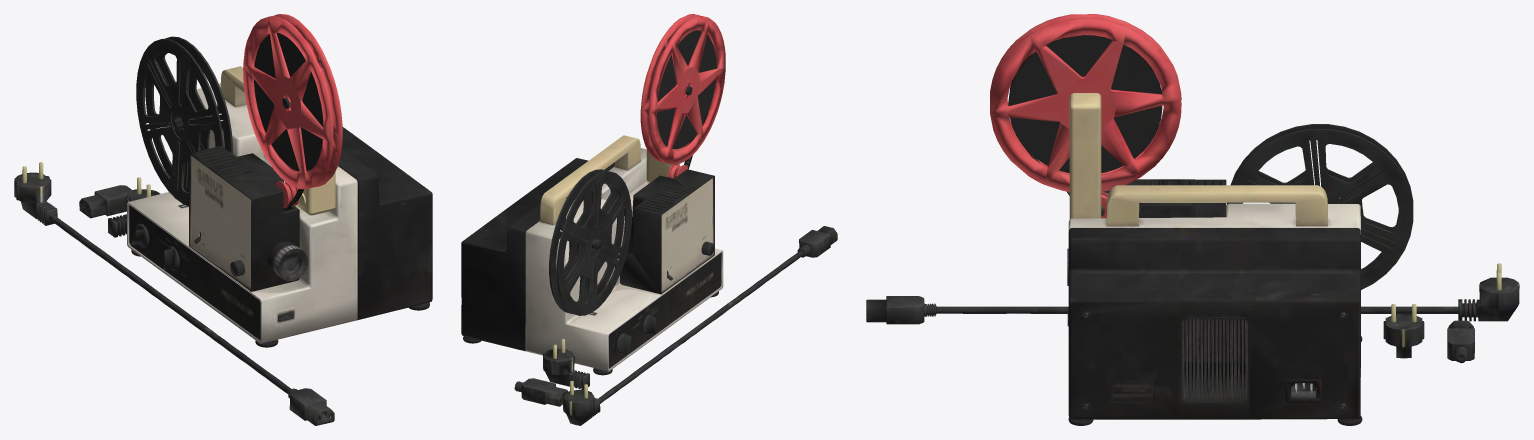
The model's file is projector8mm.glb.
3 renders of one model, left to right at view 1: azimuth 30°, elevation 25°; view 2: azimuth 150°, elevation 25°; view 3: azimuth 270°, elevation 25°, orthographic. The views are drawn at different scales.
Parts seen in each view (by area): view 1: filmstrip_projector_8mm_takeup_holder; view 2: filmstrip_projector_8mm_takeup_holder; view 3: filmstrip_projector_8mm_takeup_holder.
Boxes of the visible parts, x1,y1,x2,y2 form: filmstrip_projector_8mm_takeup_holder: (14,14,432,425); filmstrip_projector_8mm_takeup_holder: (461,14,837,425); filmstrip_projector_8mm_takeup_holder: (866,14,1519,425).
Size of the model in its own units: 0.2537 by 0.3454 by 0.6026.
2 materials, 2 textured.
